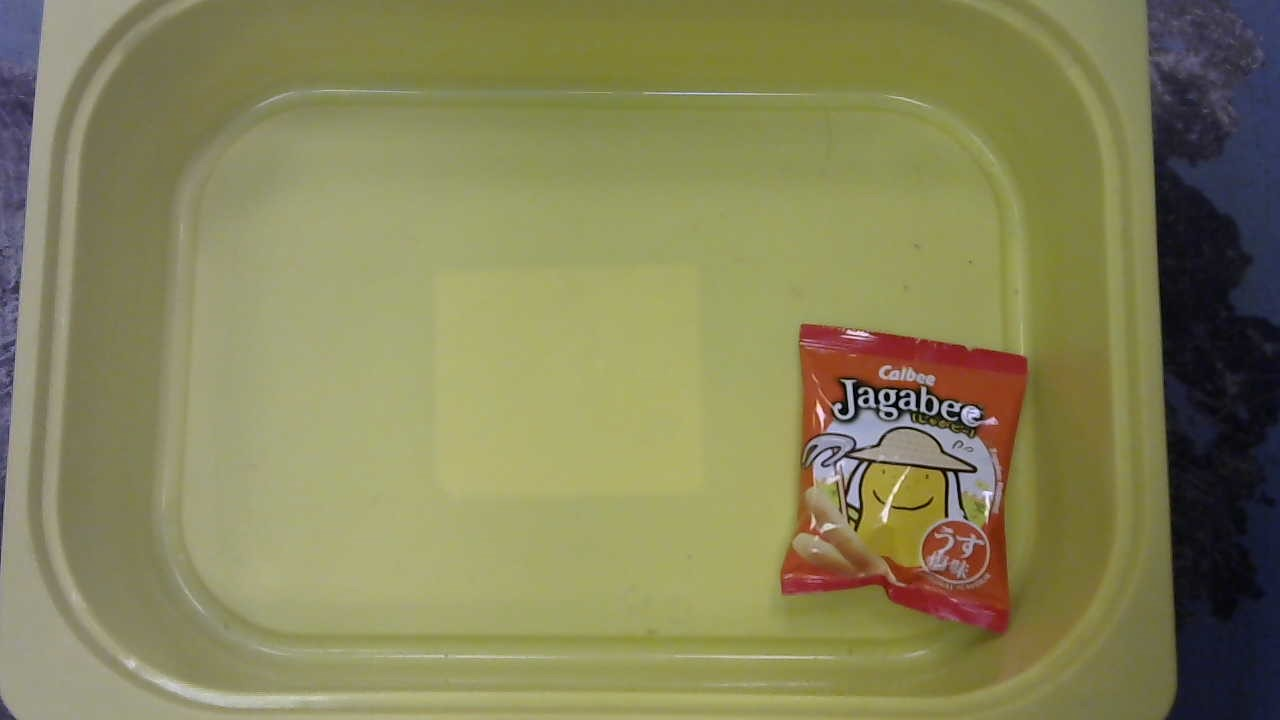JagabeeFarmer: (769, 315, 1041, 643)
